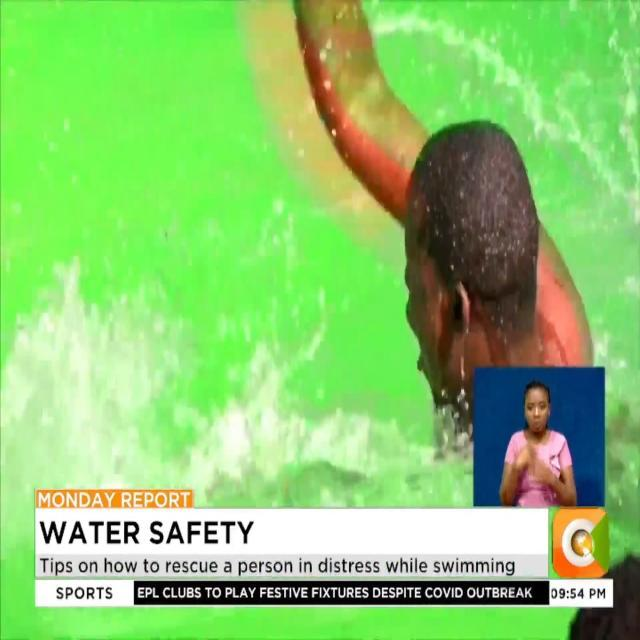drowning: (146, 5, 608, 497)
